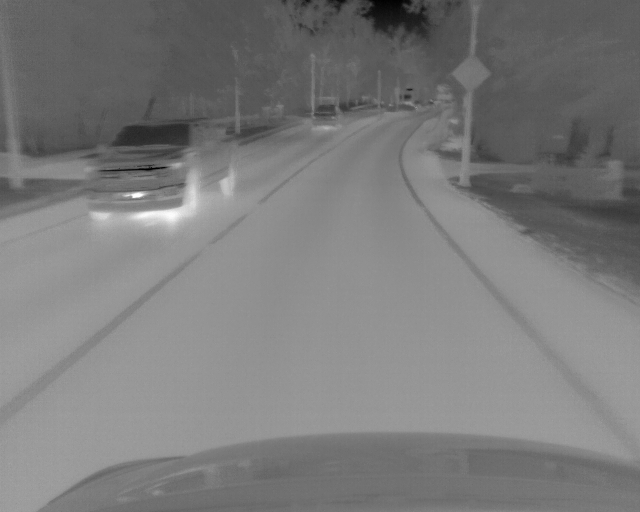car: (83, 117, 238, 223), (311, 103, 345, 131)
